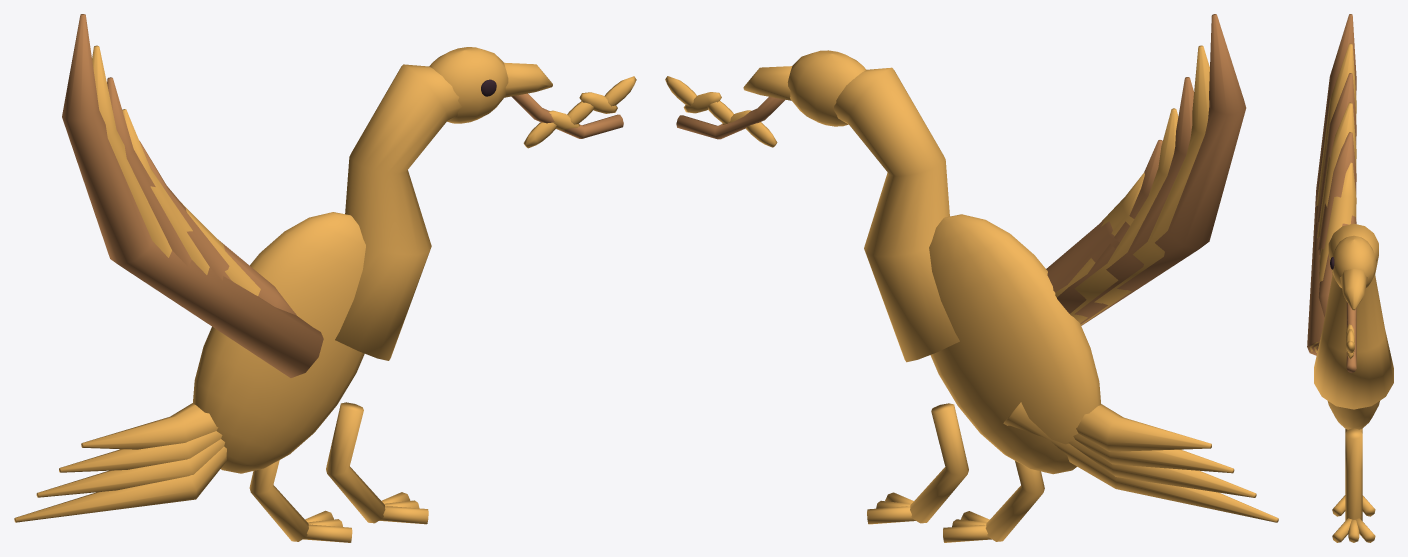
File: bird.glb
3 views of the same model, side by side, from view 1: azimuth 30°, elevation 25°; view 2: azimuth 150°, elevation 25°; view 3: azimuth 270°, elevation 25° (orthographic). The views are drawn at different scales.
Parts seen in each view (by area): view 1: bird · Brushed brass, bird · Cast bronze; view 2: bird · Brushed brass, bird · Cast bronze; view 3: bird · Brushed brass, bird · Cast bronze.
Part boxes in pixels (x1,y1,x2,y2): bird · Brushed brass: (14,45,636,542); bird · Cast bronze: (62,14,623,377); bird · Brushed brass: (665,45,1278,542); bird · Cast bronze: (676,14,1246,325); bird · Brushed brass: (1309,43,1393,542); bird · Cast bronze: (1307,14,1356,372).
Size of the model in its own units: 3.32 by 3 by 0.571.
